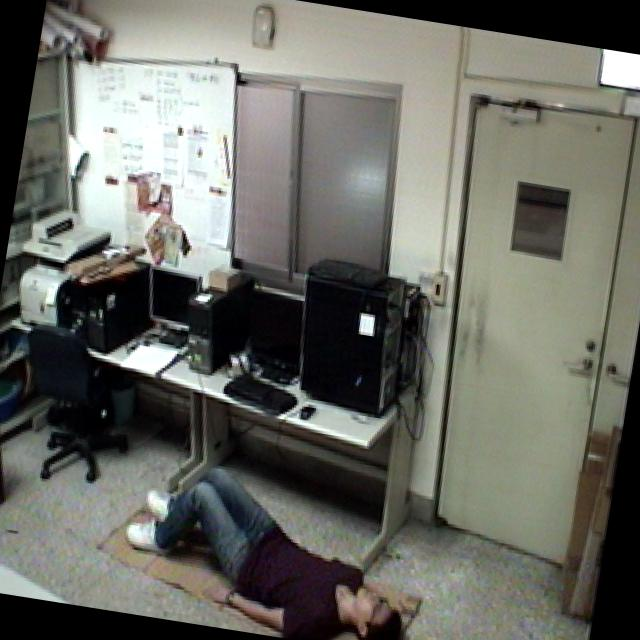lie: (105, 441, 434, 640)
